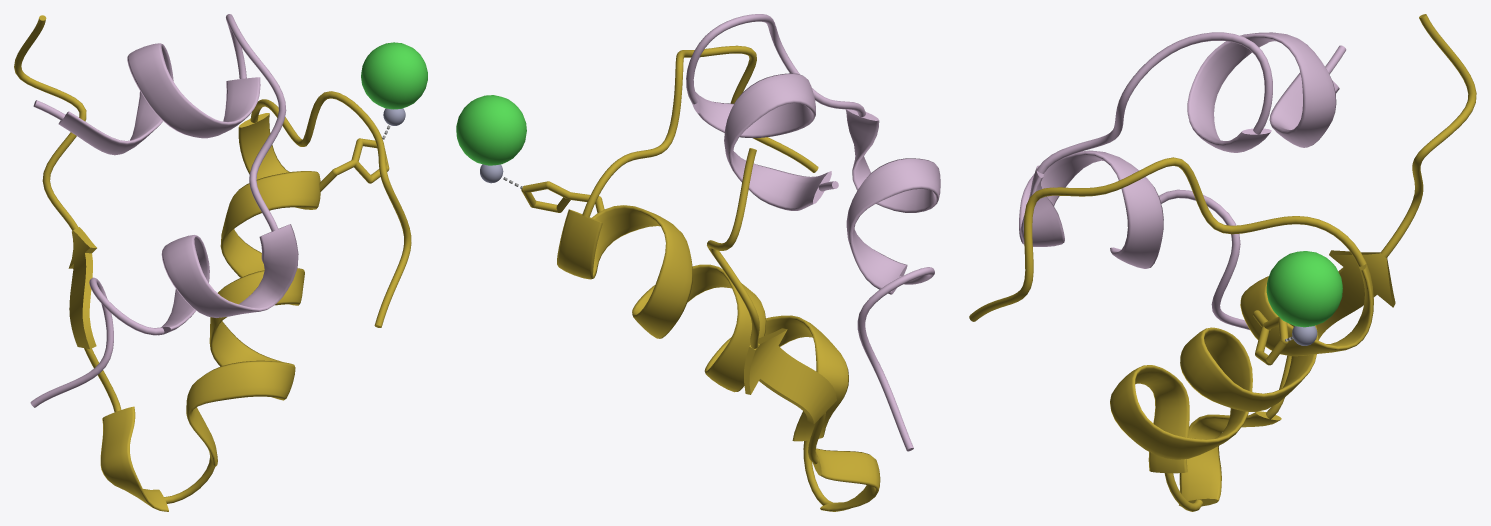
Rendered from sketchfab-insulin-monomer.glb.
3 views of the same model, side by side, from view 1: azimuth 30°, elevation 25°; view 2: azimuth 150°, elevation 25°; view 3: azimuth 270°, elevation 25° (orthographic). The views are drawn at different scales.
Visible parts, largest first — view 1: ribbons_4, atoms_2, bonds_3; view 2: ribbons_4, atoms_2, bonds_3; view 3: ribbons_4, atoms_2, bonds_3.
Boxes of the visible parts, x1,y1,x2,y2 form: ribbons_4: [14, 14, 411, 511]; atoms_2: [332, 42, 427, 183]; bonds_3: [319, 138, 388, 191]; ribbons_4: [557, 14, 940, 511]; atoms_2: [456, 95, 601, 212]; bonds_3: [522, 181, 604, 213]; ribbons_4: [969, 14, 1476, 511]; atoms_2: [1253, 251, 1342, 365]; bonds_3: [1253, 311, 1288, 363].
Bounding box in the file's own units: 25.51 × 27.09 × 23.94.
